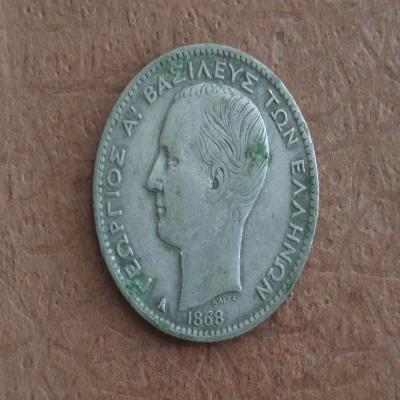numismatics: (92, 43, 320, 345)
